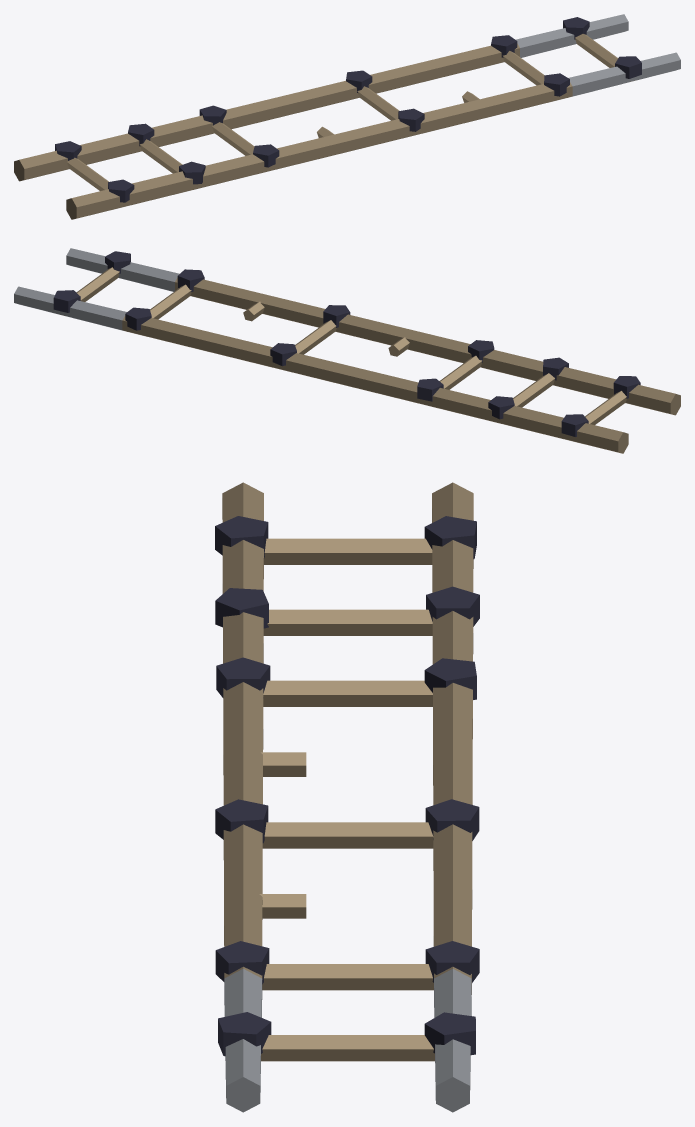
The model's file is keeper_ladder_fallen.glb.
3 views of the same model, one above another, from view 1: azimuth 30°, elevation 25°; view 2: azimuth 150°, elevation 25°; view 3: azimuth 270°, elevation 25° (orthographic). The views are drawn at different scales.
Visible parts, largest first — view 1: driftwood_d30, ink_l10, driftwood_d15, silverfog_d30; view 2: driftwood_d30, ink_l10, driftwood_d15, silverfog_d30; view 3: driftwood_d15, driftwood_d30, ink_l10, silverfog_d30.
Boxes of the visible parts, x1,y1,x2,y2 form: driftwood_d30: (14,43,572,219); ink_l10: (55,17,641,202); driftwood_d15: (67,34,635,190); silverfog_d30: (516,14,680,96); driftwood_d30: (122,274,680,453); ink_l10: (53,251,640,436); driftwood_d15: (59,267,626,424); silverfog_d30: (14,248,179,330); driftwood_d15: (259,538,434,1061); driftwood_d30: (222,482,473,994); ink_l10: (215,516,479,1056); silverfog_d30: (224,968,471,1112).
Size of the model in its own units: 3.2 by 0.115 by 0.6061.
